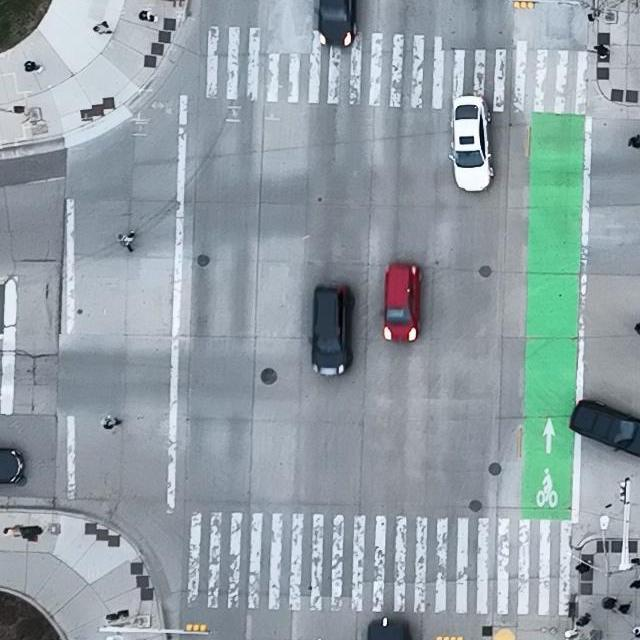car: (448, 95, 495, 192), (568, 399, 640, 457), (310, 283, 354, 377), (380, 261, 421, 342), (315, 0, 358, 46), (0, 447, 25, 484)
